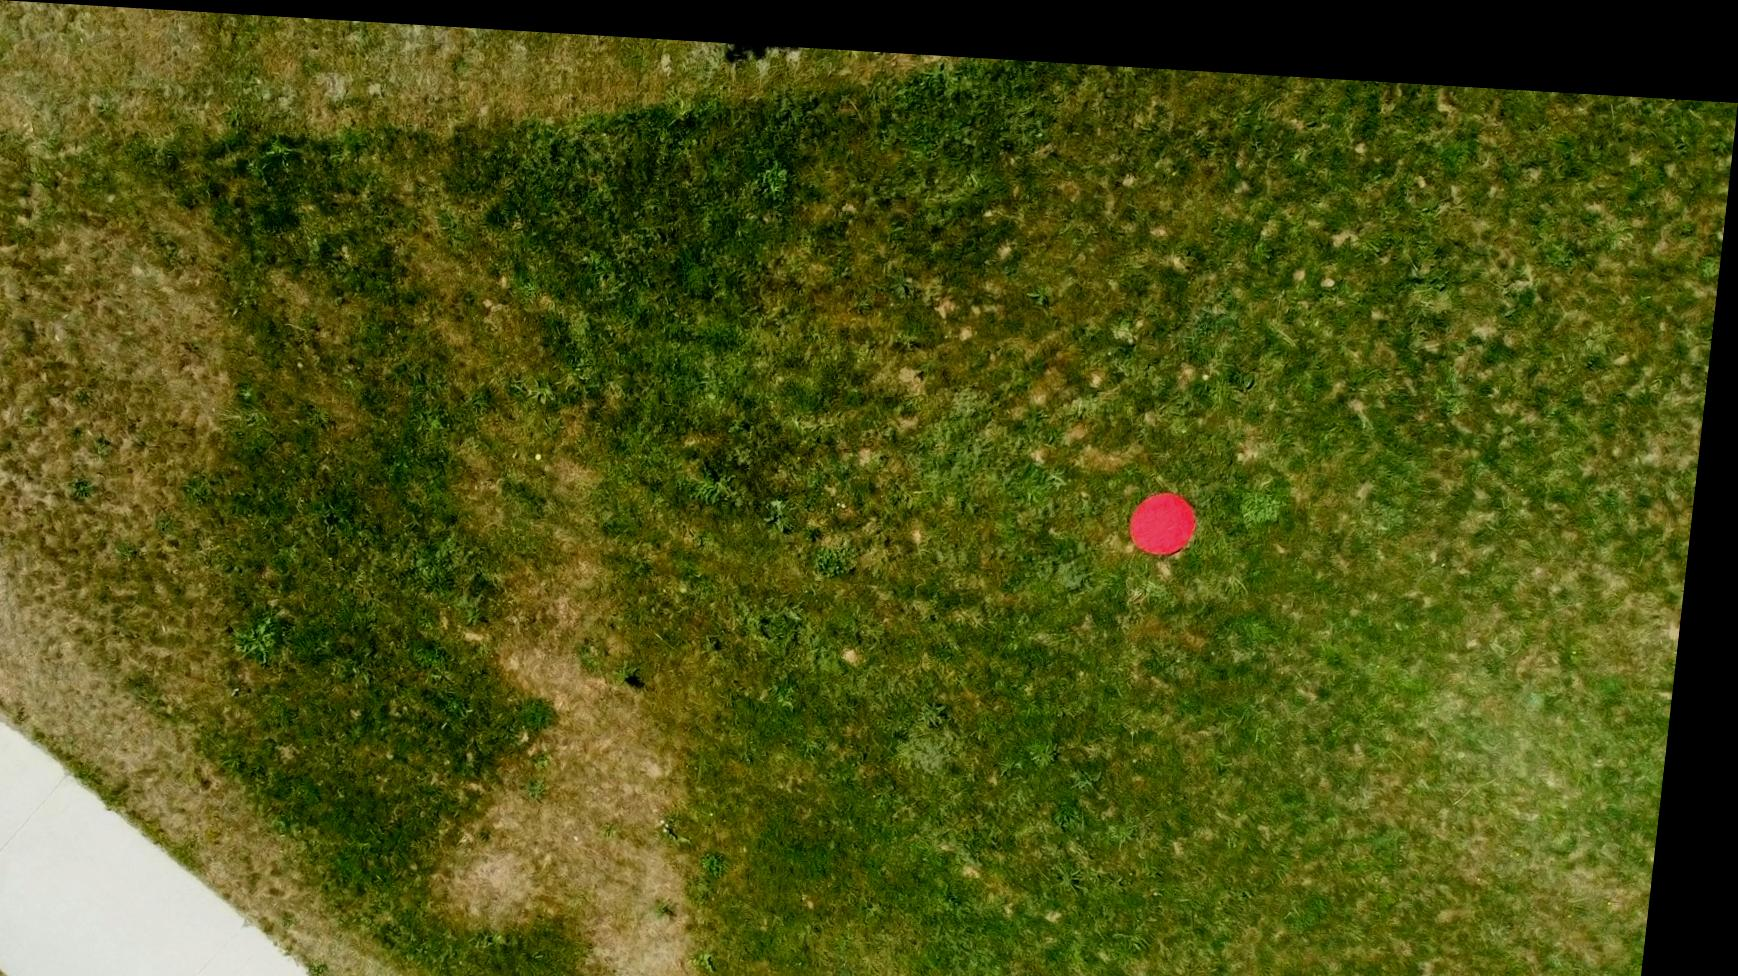Red: (1133, 475, 1210, 543)
